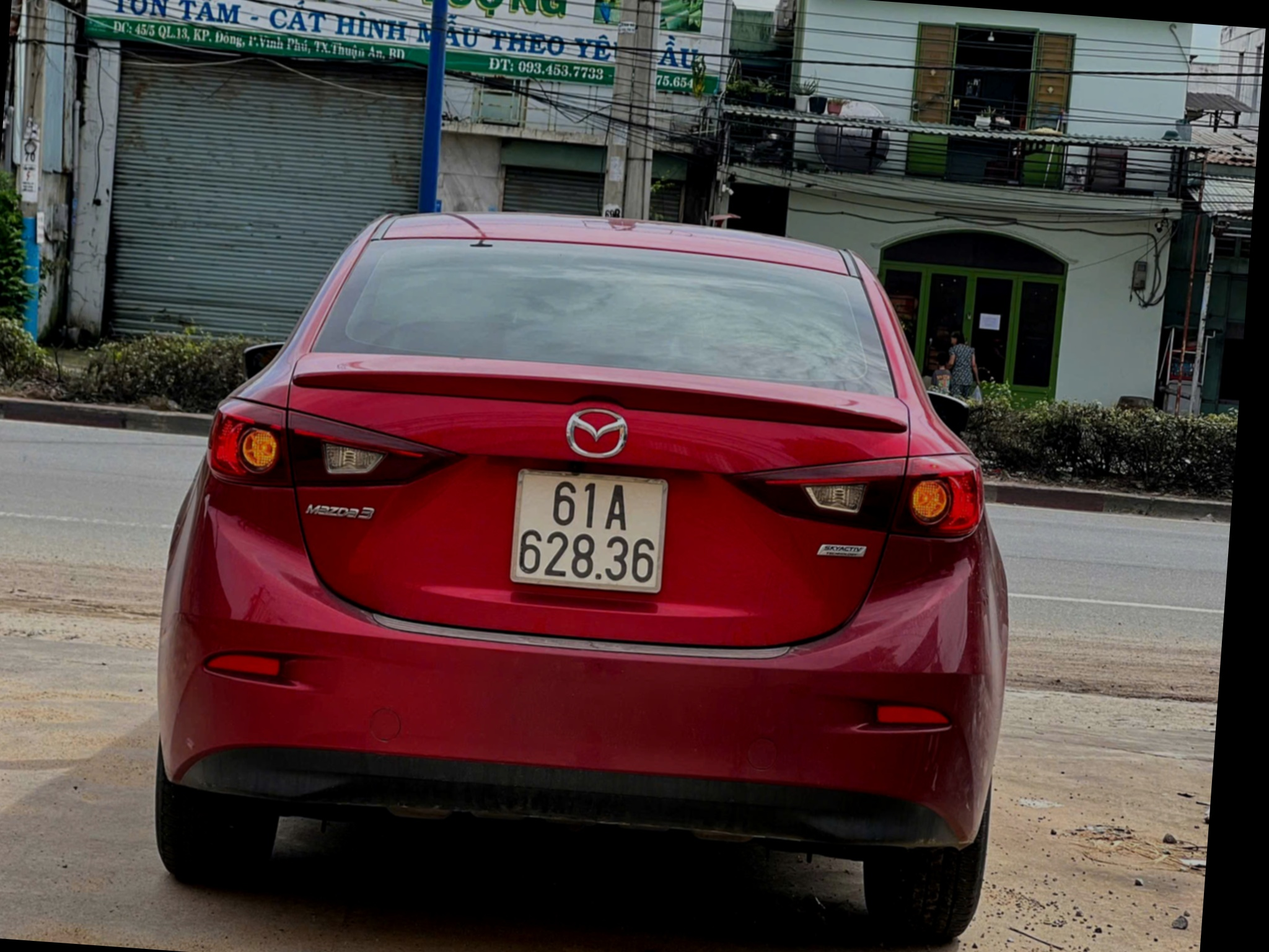Bien-so: (557, 492, 709, 619)
